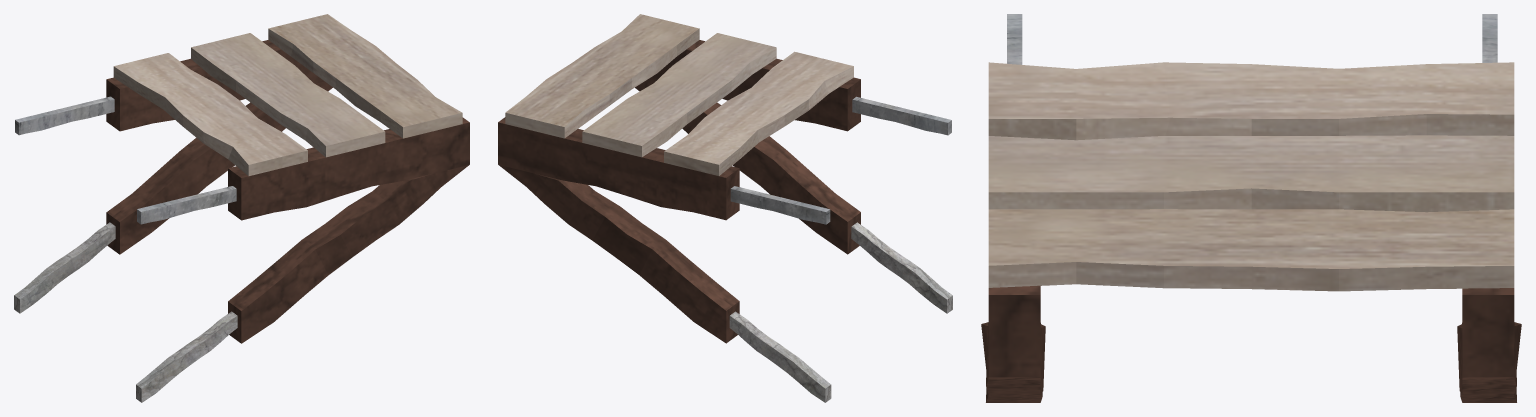
File: Wooden platform6.glb
The picture shows the model from 3 angles, left to right: view 1: azimuth 30°, elevation 25°; view 2: azimuth 150°, elevation 25°; view 3: azimuth 270°, elevation 25°; orthographic projection. The views are drawn at different scales.
Visible parts, largest first — view 1: Cube.012, Cube.014, Cube.013, Cube.026, Cube.027; view 2: Cube.012, Cube.014, Cube.013, Cube.026, Cube.027; view 3: Cube.012, Cube.013, Cube.014, Cube.027.
Boxes of the visible parts, bbox=[...] form: Cube.012: bbox=[113, 14, 462, 176]; Cube.014: bbox=[106, 81, 468, 343]; Cube.013: bbox=[106, 40, 469, 220]; Cube.026: bbox=[14, 222, 237, 402]; Cube.027: bbox=[15, 96, 236, 224]; Cube.012: bbox=[505, 14, 853, 175]; Cube.014: bbox=[499, 81, 860, 343]; Cube.013: bbox=[498, 40, 860, 220]; Cube.026: bbox=[729, 222, 952, 402]; Cube.027: bbox=[730, 96, 951, 224]; Cube.012: bbox=[988, 62, 1514, 291]; Cube.013: bbox=[988, 285, 1514, 377]; Cube.014: bbox=[981, 322, 1521, 402]; Cube.027: bbox=[1007, 14, 1497, 64].
Bounding box in the file's own units: 7.15 × 4.55 × 5.3.
1 material, 1 textured.
